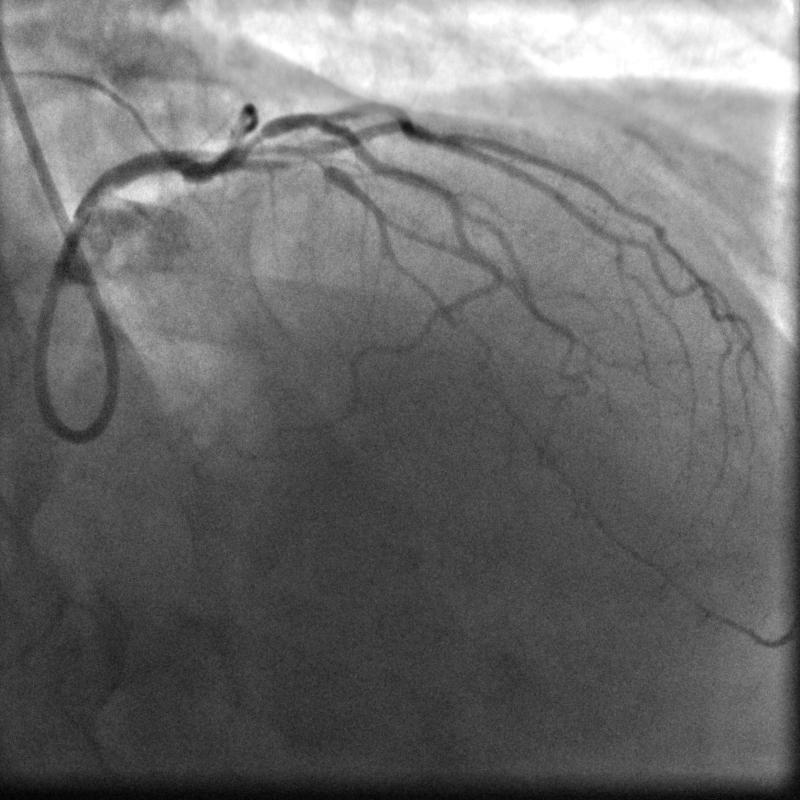Stenosis: (235, 128, 267, 155)
